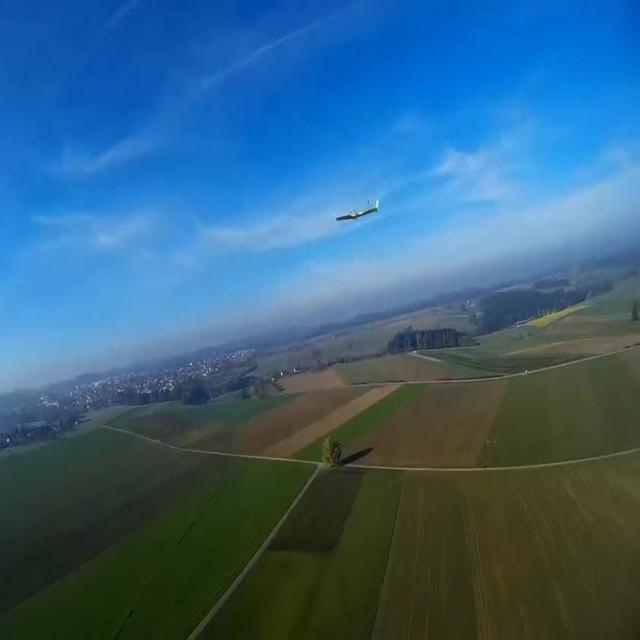iha: (334, 197, 379, 225)
